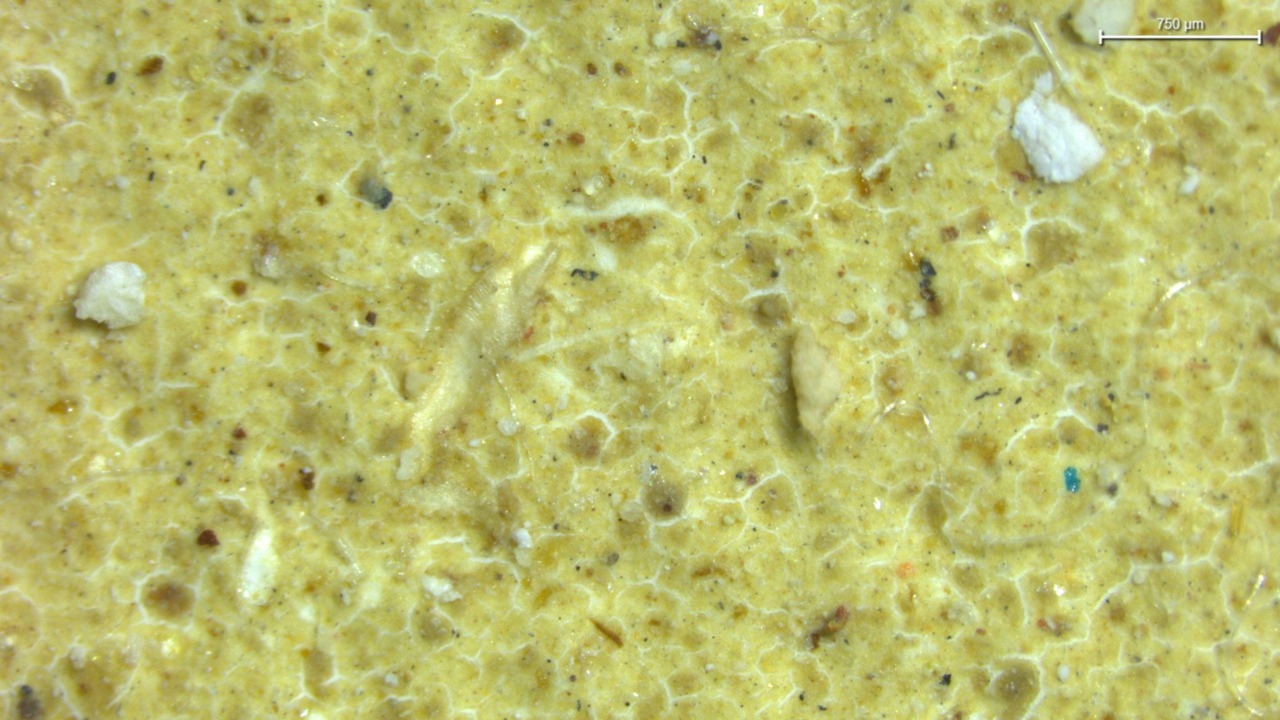microplastic_fragment: (1013, 74, 1103, 182), (792, 327, 842, 434), (74, 262, 145, 329), (1072, 0, 1135, 41)
